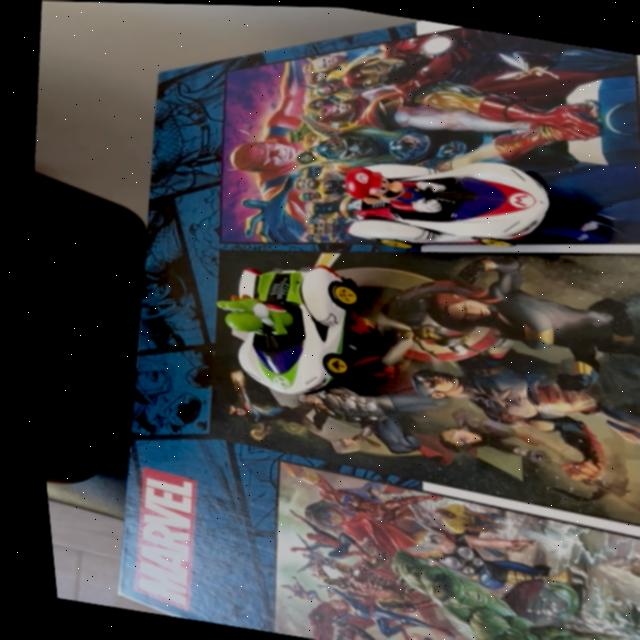mario: (322, 134, 577, 272)
yoshi: (186, 239, 384, 422)
